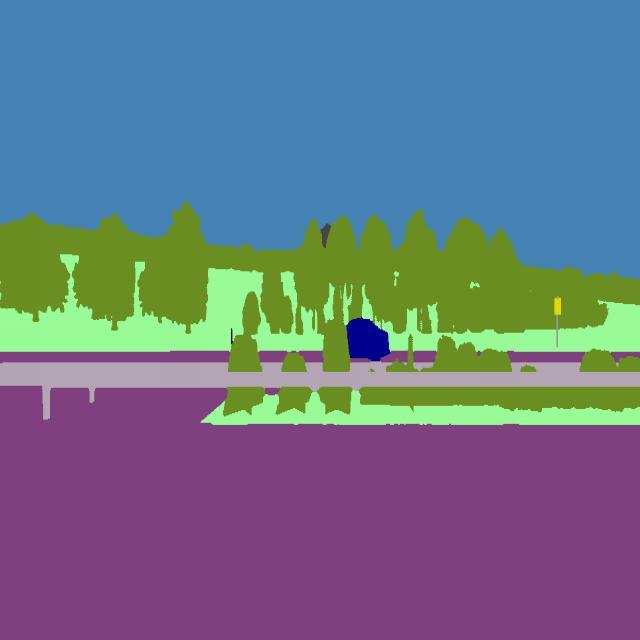safe: (324, 314, 392, 374)
